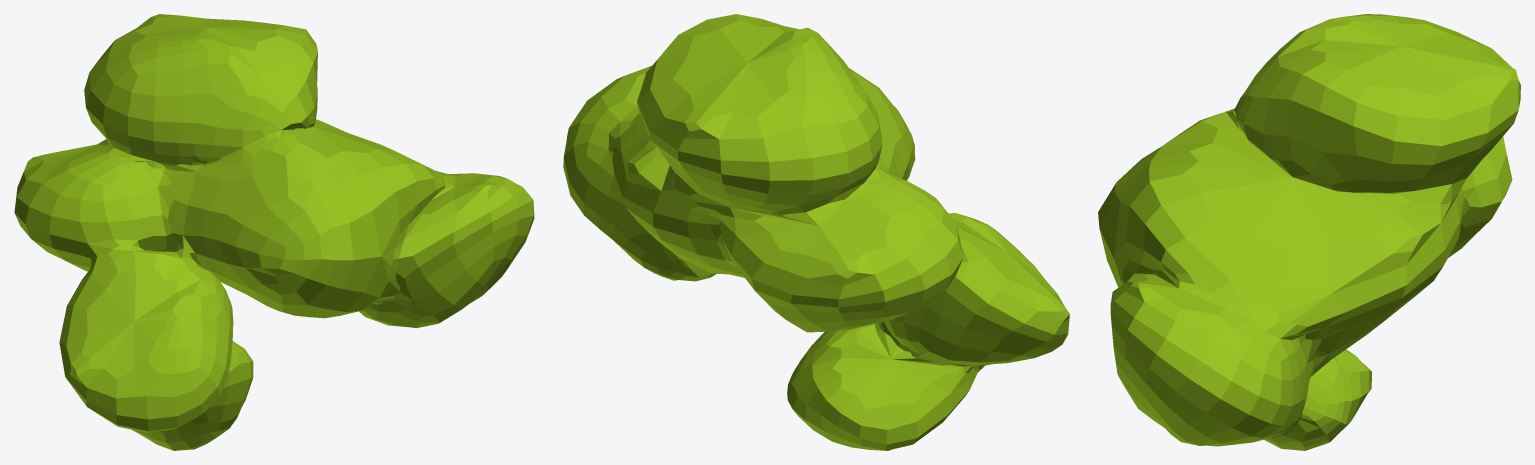
File: GreenBush.fbx
3 renders of one model, left to right at view 1: azimuth 30°, elevation 25°; view 2: azimuth 150°, elevation 25°; view 3: azimuth 270°, elevation 25°, orthographic. The views are drawn at different scales.
Visible parts, largest first — view 1: GreenTree.003; view 2: GreenTree.003; view 3: GreenTree.003.
Boxes of the visible parts, x1,y1,x2,y2 form: GreenTree.003: (14,14,534,450); GreenTree.003: (563,14,1069,450); GreenTree.003: (1098,14,1520,450).
Bounding box in the file's own units: 1143 × 907 × 780.
